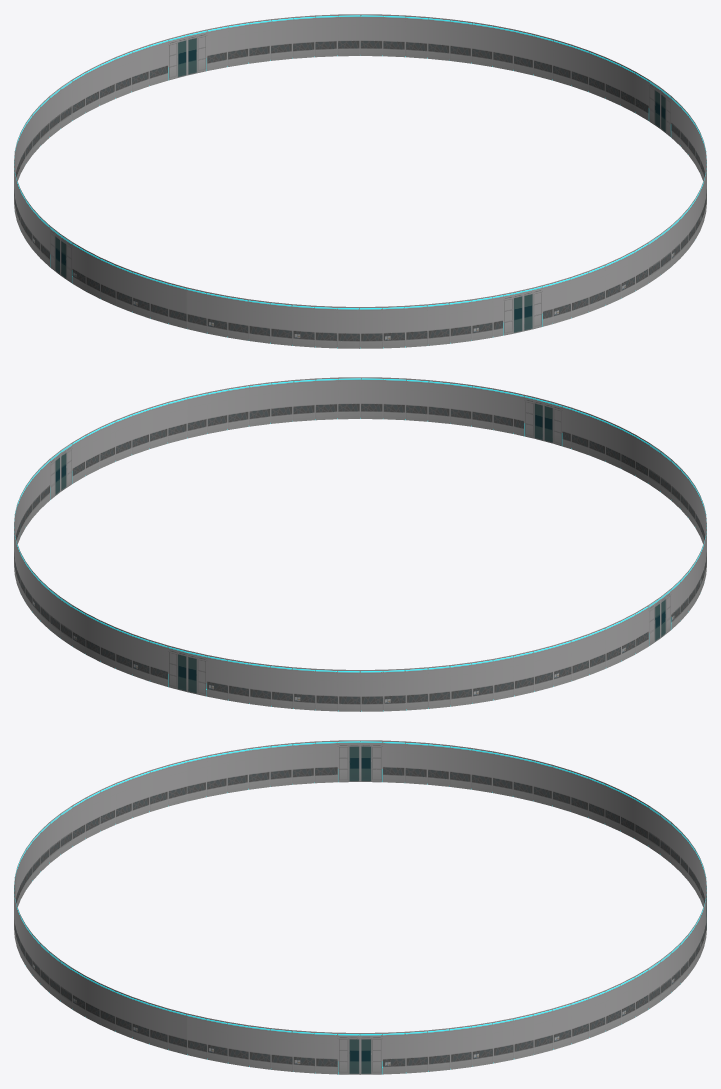
The model's file is t1_b_enclosure_a.glb.
3 renders of one model, top to bottom at view 1: azimuth 30°, elevation 25°; view 2: azimuth 150°, elevation 25°; view 3: azimuth 270°, elevation 25°, orthographic.
Parts seen in each view (by area): view 1: nomerge_t1_b_enclosure_a_outer, nomerge_t1_b_enclosure_a_inner; view 2: nomerge_t1_b_enclosure_a_outer, nomerge_t1_b_enclosure_a_inner; view 3: nomerge_t1_b_enclosure_a_outer, nomerge_t1_b_enclosure_a_inner.
Part boxes in pixels (left/top/right/bottom): nomerge_t1_b_enclosure_a_outer: left=14, top=163, right=706, bottom=348; nomerge_t1_b_enclosure_a_inner: left=14, top=14, right=706, bottom=180; nomerge_t1_b_enclosure_a_outer: left=14, top=526, right=706, bottom=711; nomerge_t1_b_enclosure_a_inner: left=14, top=377, right=706, bottom=543; nomerge_t1_b_enclosure_a_outer: left=14, top=889, right=706, bottom=1074; nomerge_t1_b_enclosure_a_inner: left=14, top=740, right=706, bottom=906.
Bounding box in the file's own units: 128 × 8.51 × 128.
2 materials, 2 textured.
